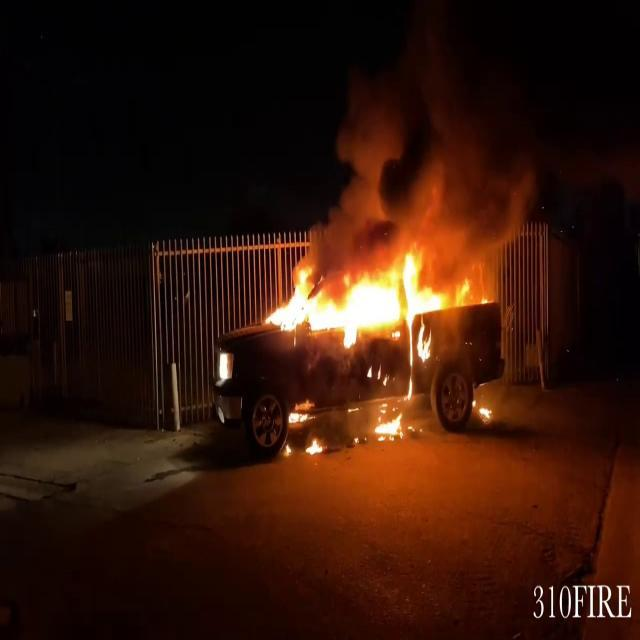Fire: (266, 244, 474, 350), (370, 406, 408, 442)
Smoke: (318, 1, 536, 268)
